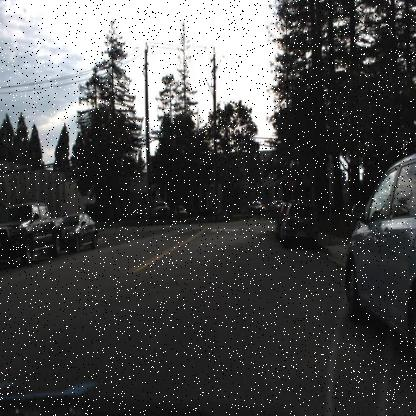car: (342, 149, 415, 354), (0, 202, 66, 263), (280, 199, 320, 251), (280, 198, 319, 250), (61, 208, 97, 254), (65, 212, 98, 250), (246, 196, 266, 223), (150, 200, 169, 219), (168, 202, 186, 222)
